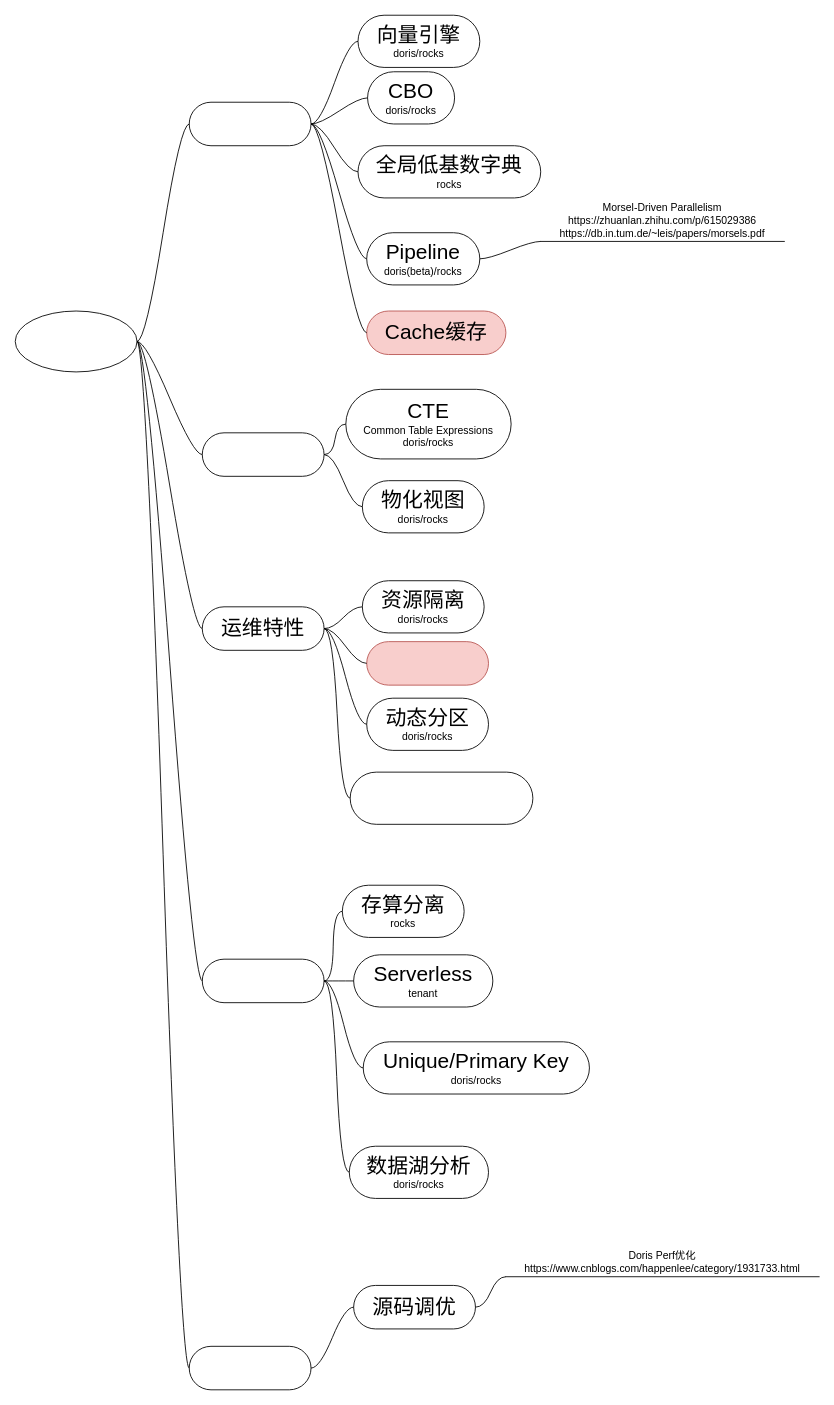
This 834x1405 diagram has some shape labels left out. The box of each missing label's shape, as (x1, y1, x2, y2) in pixels:
LakeHouse: (14, 310, 137, 372)
开发工具: (188, 1345, 311, 1390)
性能优化: (188, 101, 311, 146)
权限管理: (366, 641, 489, 685)
算子落盘(OOM) rocks: (349, 771, 533, 824)
语法特性: (201, 432, 324, 476)
高级特性: (201, 958, 324, 1003)
